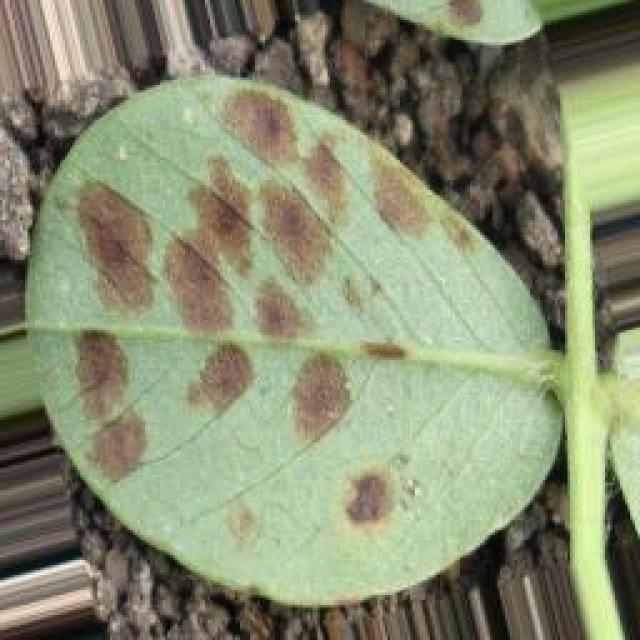Whitefly: (38, 21, 546, 558)
